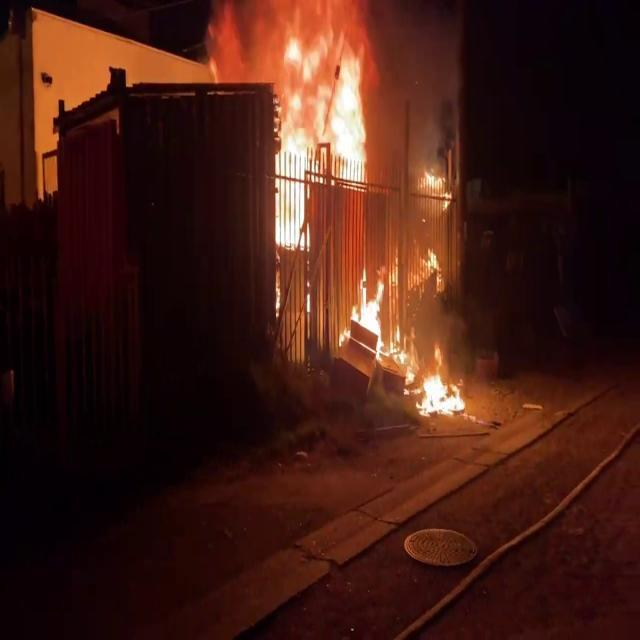Fire: (269, 5, 375, 275), (346, 253, 406, 371), (414, 351, 468, 418)
Smoke: (362, 0, 468, 277)
